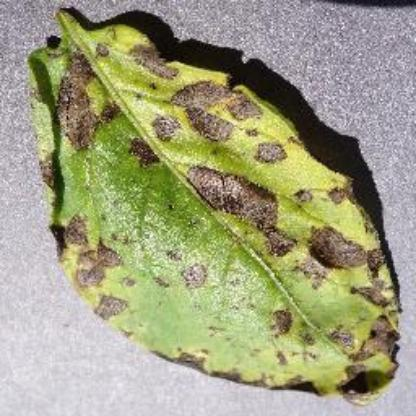Early-Blight: (24, 0, 414, 406)
